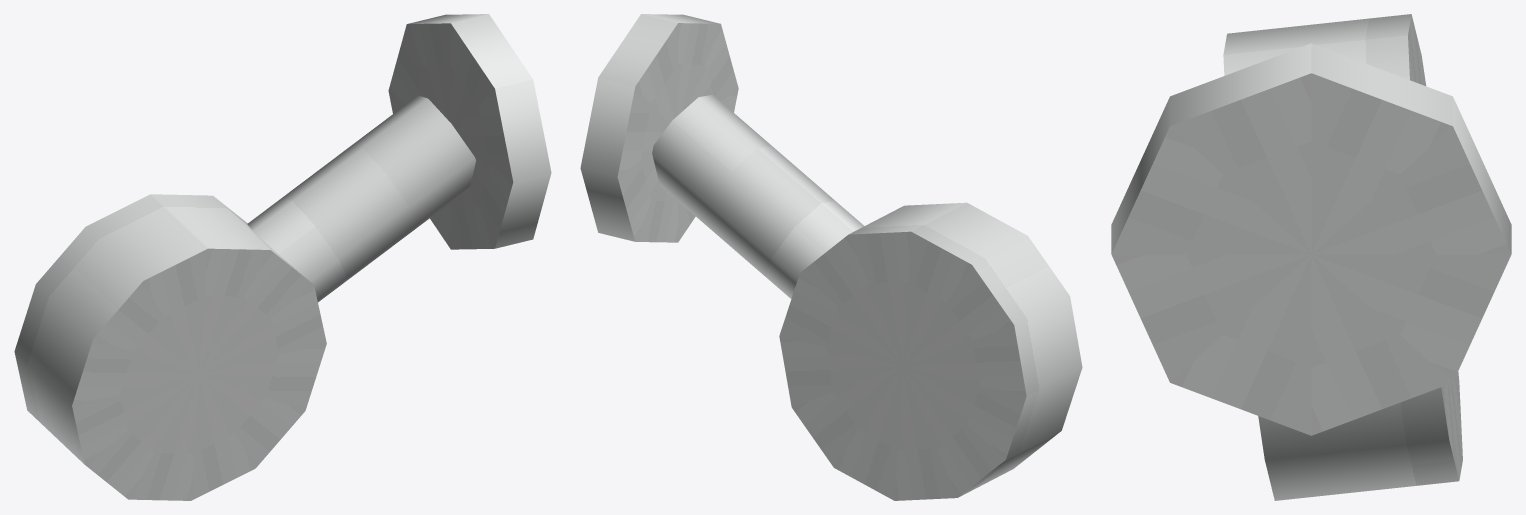
Rendered from trusssignalarm_stub_67.obj.
3 views of the same model, side by side, from view 1: azimuth 30°, elevation 25°; view 2: azimuth 150°, elevation 25°; view 3: azimuth 270°, elevation 25° (orthographic). The views are drawn at different scales.
Parts seen in each view (by area): view 1: trusssignalarm_stub_67; view 2: trusssignalarm_stub_67; view 3: trusssignalarm_stub_67.
Part boxes in pixels (x1,y1,x2,y2): trusssignalarm_stub_67: (14,14,551,500); trusssignalarm_stub_67: (580,14,1082,500); trusssignalarm_stub_67: (1111,14,1511,500).
Bounding box in the file's own units: 0.7056 × 0.625 × 0.35.
